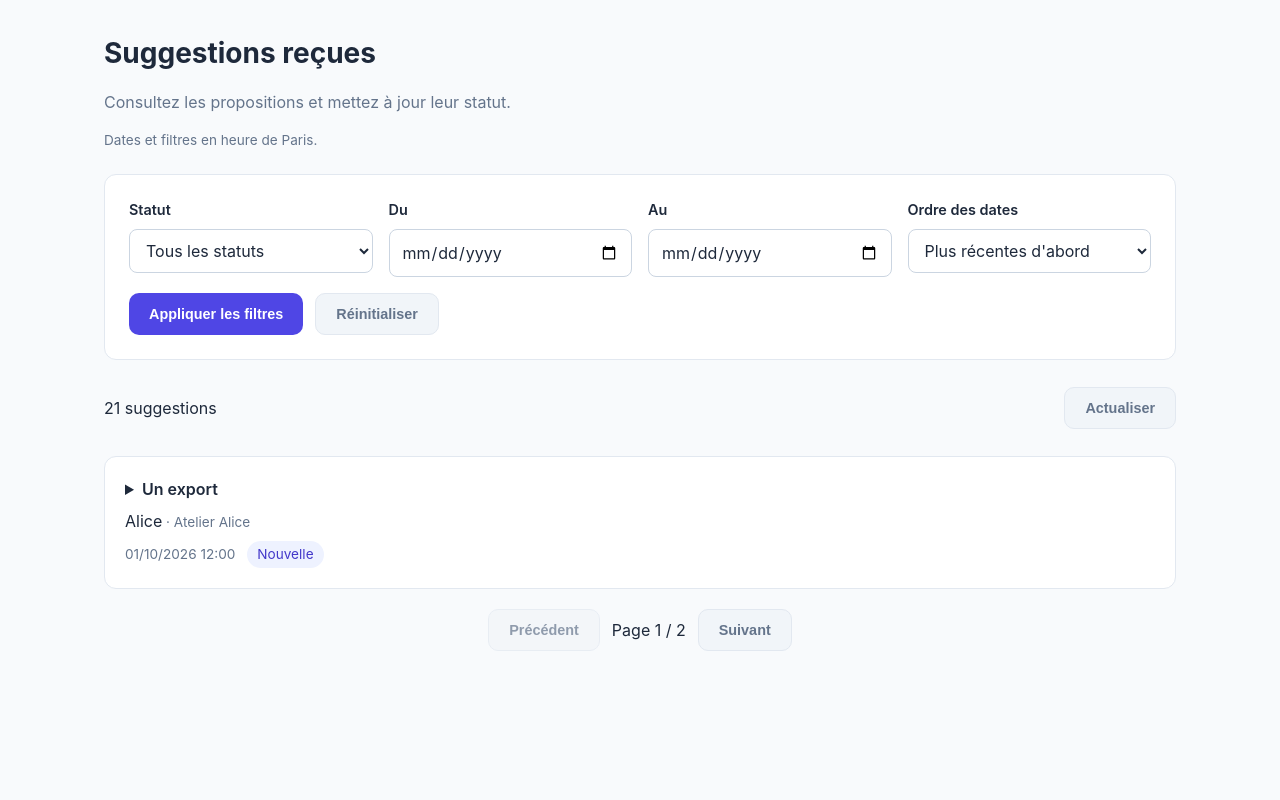
Scenario: DevSuggestionsView › signale une suggestion hors filtre apres mise a jour sans fermer le detail ni recharger
Select "Nouvelle" in the dropdown with id "suggestion-status-filter" at (251, 251), box [129,229,372,273]
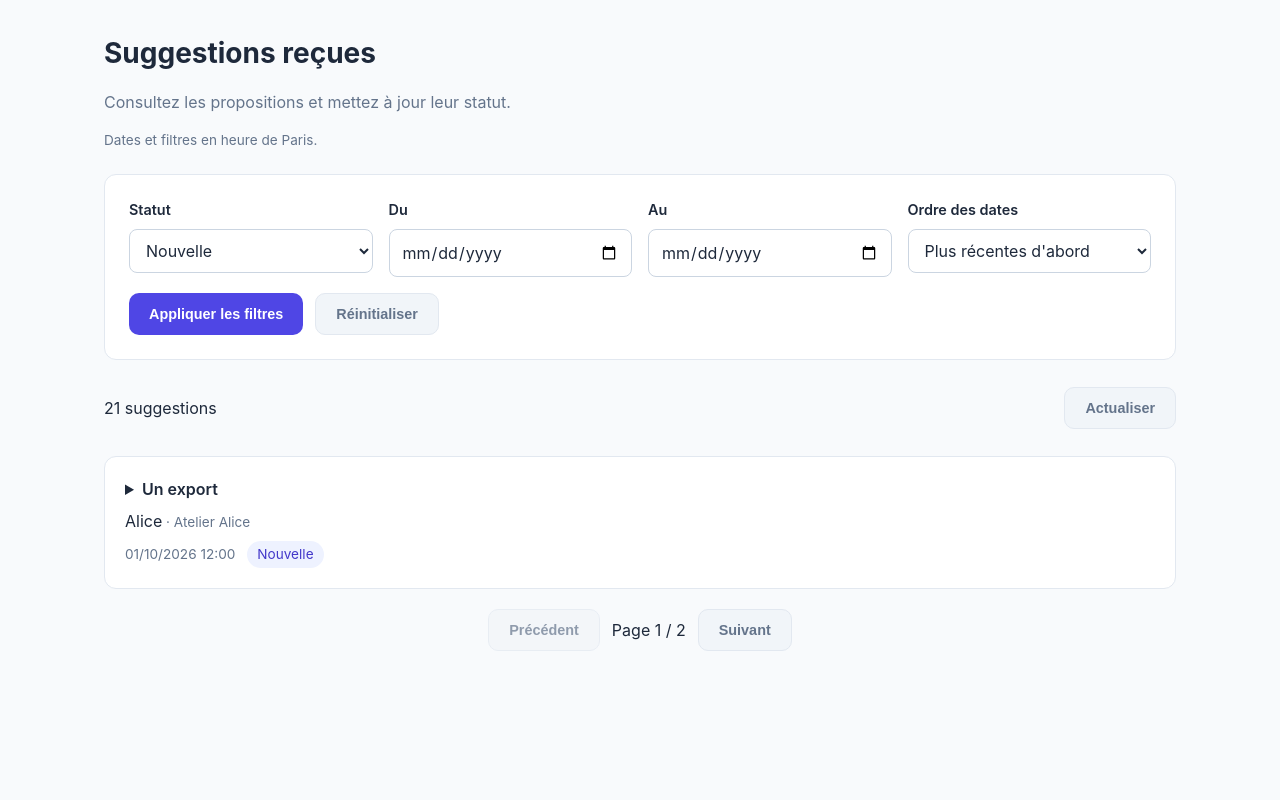
Submit the form with class "suggestions-filters", box [104,174,1176,360]
Select "Acceptée" in the dropdown with id "suggestion-status-filter" at (251, 251), box [129,229,372,273]
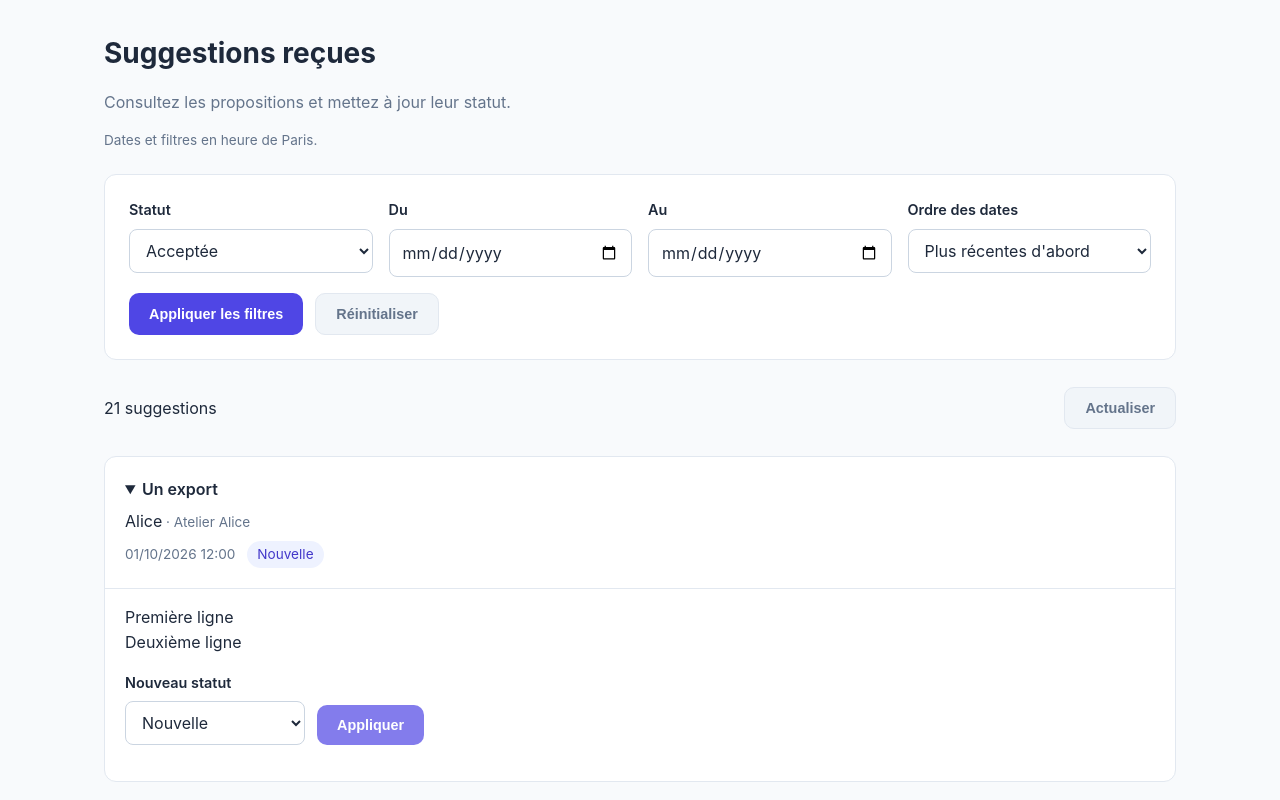
Select "Acceptée" in the dropdown with id "suggestion-status-1" at (215, 723), box [125,701,305,745]
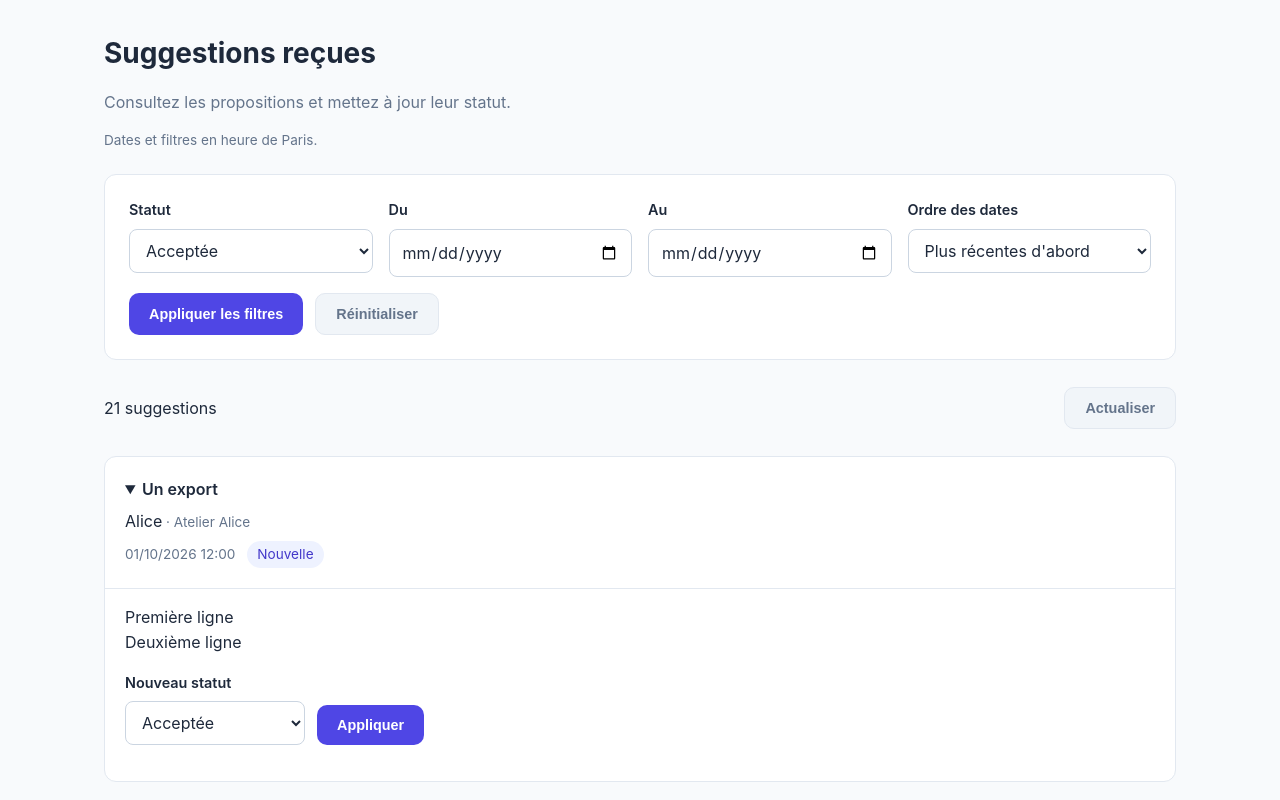
Submit the form with class "suggestion-status-form", box [125,674,424,745]
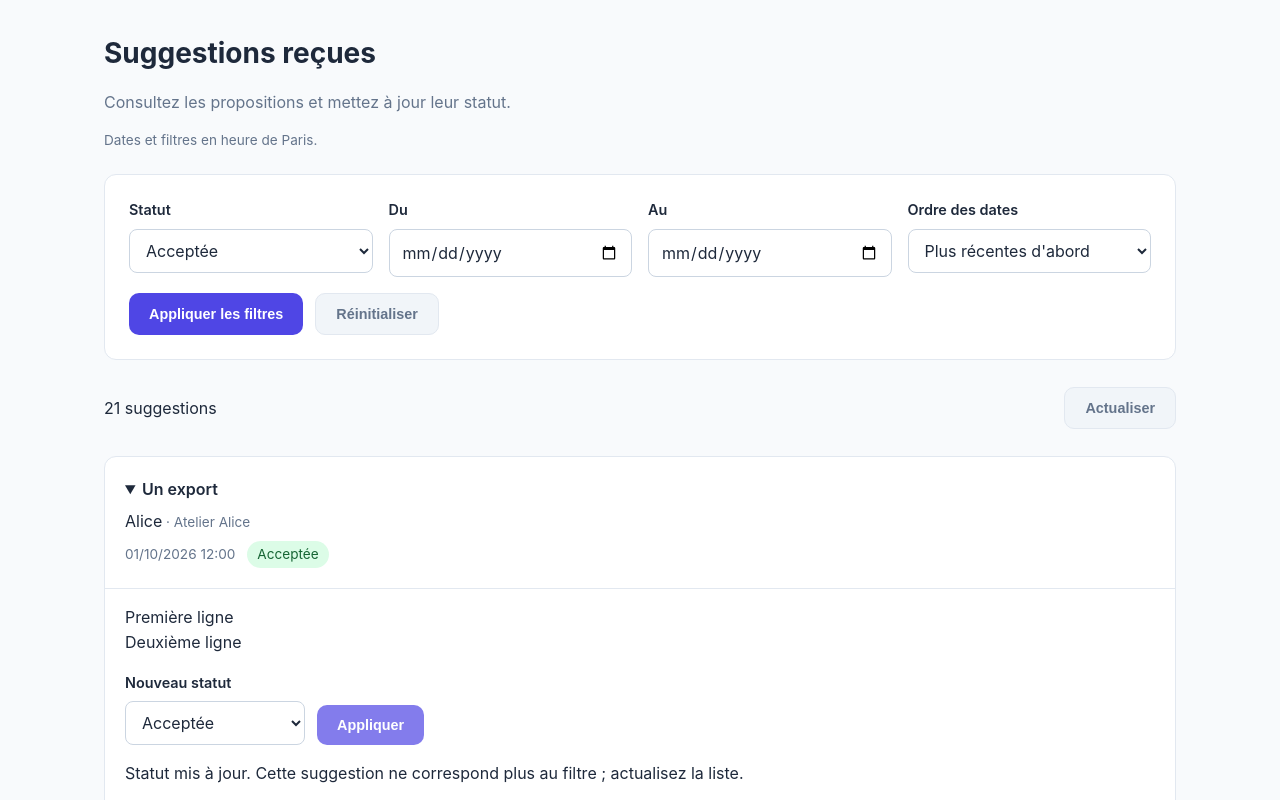
expect the 2nd message shows "Statut mis à jour. Cette suggestion ne correspond plus au filtre ; actualisez la liste.": met, box [125,763,744,783]
